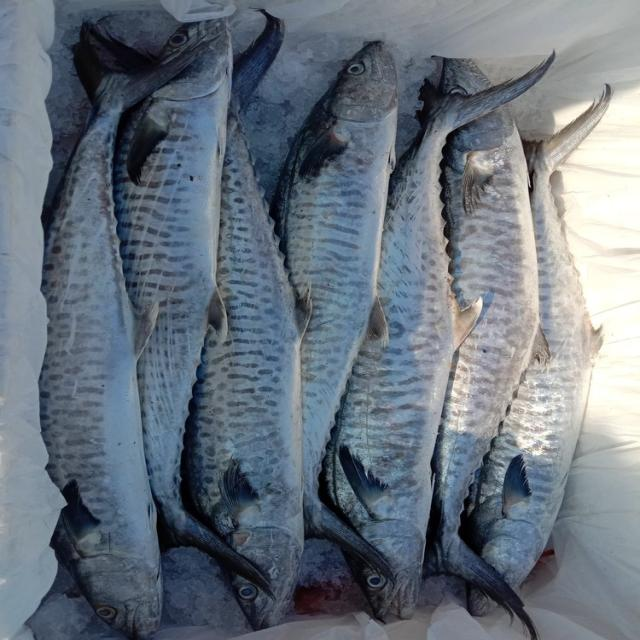seer: (273, 40, 397, 575)
